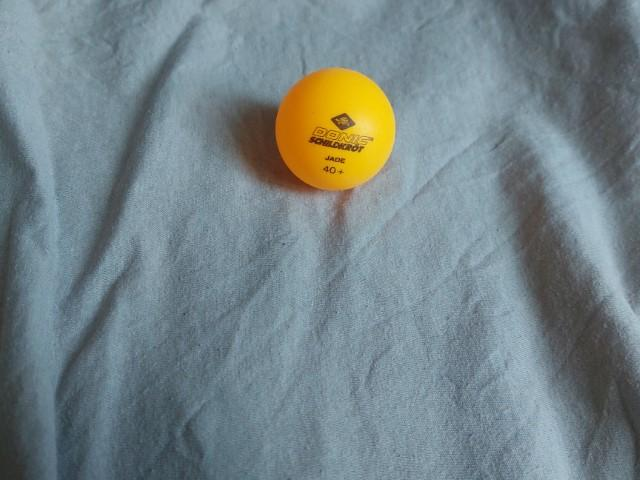oball: (265, 63, 409, 198)
